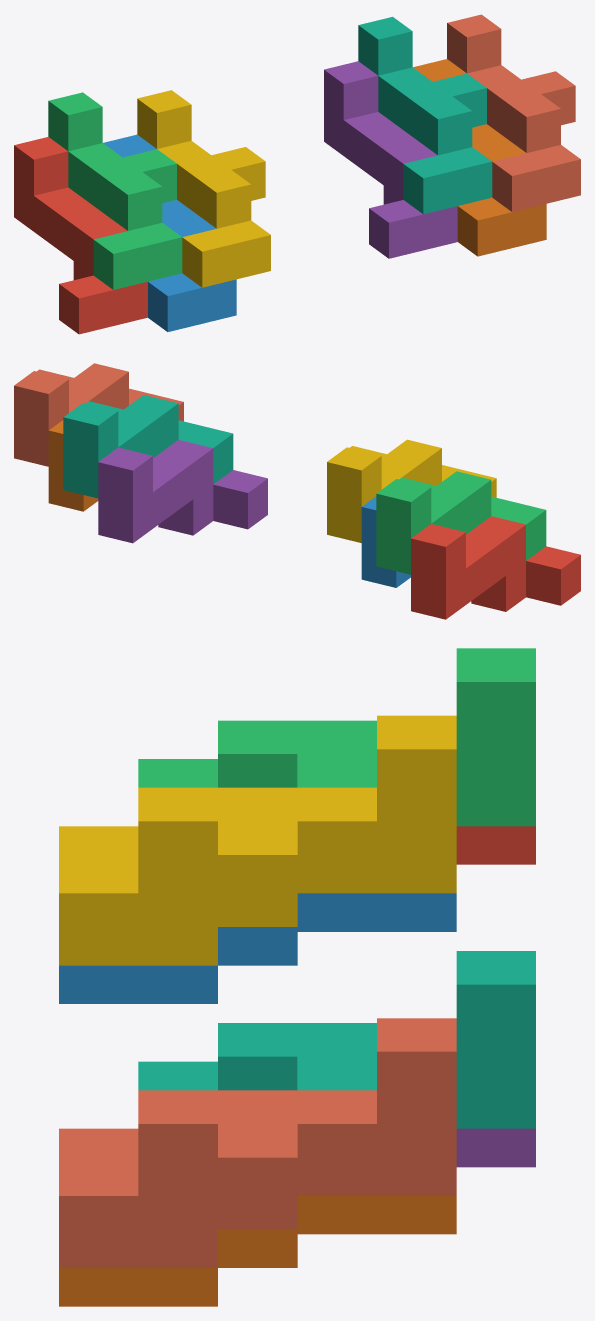
File: tiling.obj
3 renders of one model, top to bottom at view 1: azimuth 30°, elevation 25°; view 2: azimuth 150°, elevation 25°; view 3: azimuth 270°, elevation 25°, orthographic. The views are drawn at different scales.
Visible parts, largest first — view 1: copy_1_domain_7, copy_1_domain_3, copy_1_domain_4, copy_1_domain_8, copy_1_domain_5, copy_1_domain_1, copy_1_domain_6, copy_1_domain_2; view 2: copy_1_domain_5, copy_1_domain_1, copy_1_domain_7, copy_1_domain_3, copy_1_domain_4, copy_1_domain_8, copy_1_domain_2, copy_1_domain_6; view 3: copy_1_domain_4, copy_1_domain_8, copy_1_domain_7, copy_1_domain_3, copy_1_domain_2, copy_1_domain_6, copy_1_domain_5, copy_1_domain_1.
Part boxes in pixels (left/top/right/bottom): copy_1_domain_7: left=358, top=16, right=492, bottom=214; copy_1_domain_3: left=48, top=92, right=182, bottom=289; copy_1_domain_4: left=137, top=90, right=270, bottom=287; copy_1_domain_8: left=447, top=14, right=580, bottom=211; copy_1_domain_5: left=324, top=61, right=457, bottom=258; copy_1_domain_1: left=14, top=137, right=147, bottom=334; copy_1_domain_6: left=413, top=59, right=546, bottom=256; copy_1_domain_2: left=103, top=134, right=236, bottom=331; copy_1_domain_5: left=98, top=440, right=267, bottom=543; copy_1_domain_1: left=411, top=516, right=580, bottom=619; copy_1_domain_7: left=63, top=395, right=233, bottom=498; copy_1_domain_3: left=376, top=471, right=546, bottom=574; copy_1_domain_4: left=327, top=439, right=496, bottom=542; copy_1_domain_8: left=14, top=363, right=183, bottom=466; copy_1_domain_2: left=361, top=496, right=410, bottom=587; copy_1_domain_6: left=48, top=420, right=98, bottom=511; copy_1_domain_4: left=59, top=715, right=456, bottom=965; copy_1_domain_8: left=59, top=1018, right=456, bottom=1267; copy_1_domain_7: left=138, top=951, right=535, bottom=1128; copy_1_domain_3: left=138, top=648, right=535, bottom=826; copy_1_domain_2: left=59, top=893, right=456, bottom=1003; copy_1_domain_6: left=59, top=1196, right=456, bottom=1306; copy_1_domain_5: left=456, top=1128, right=535, bottom=1167; copy_1_domain_1: left=456, top=826, right=535, bottom=864.
Size of the model in its own units: 15 by 4 by 6.
